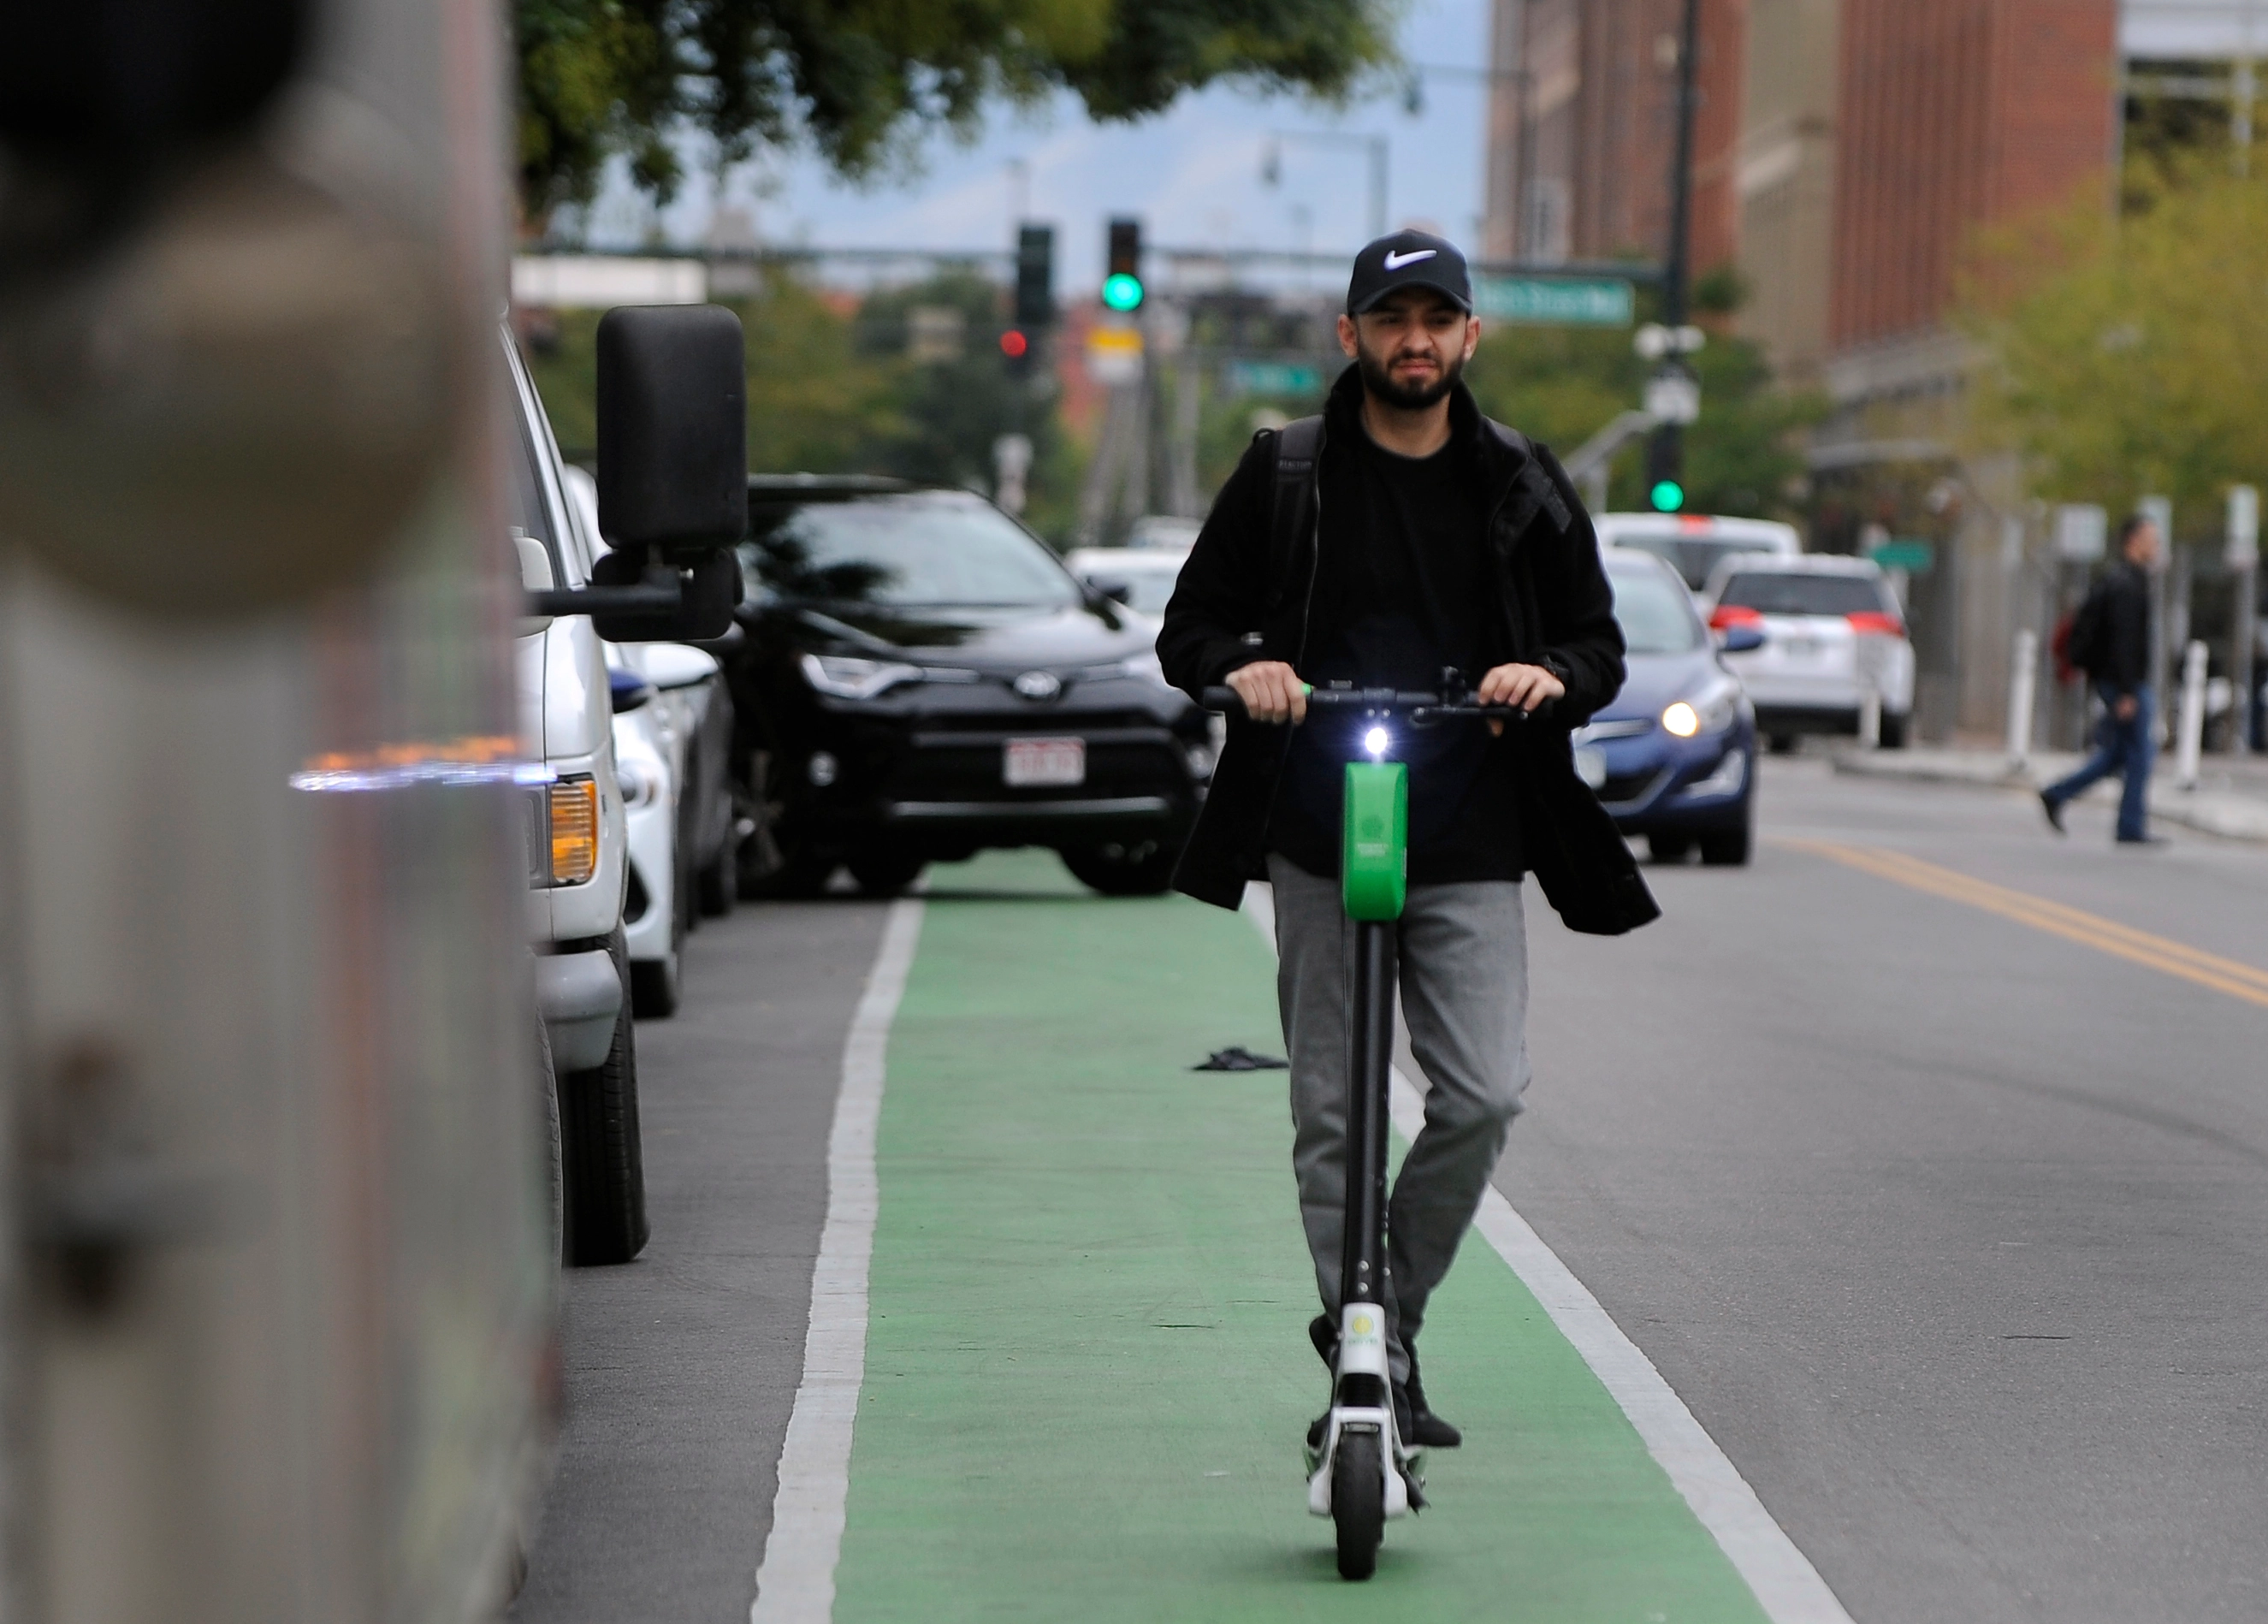scooter: (1191, 673, 1557, 1591)
